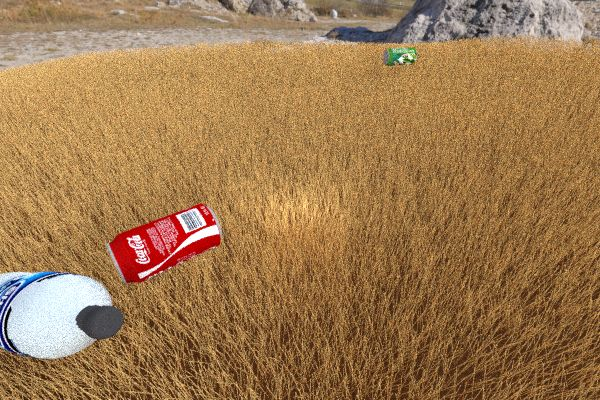bottle: (0, 271, 123, 359)
can: (106, 203, 222, 284), (382, 47, 417, 65)
